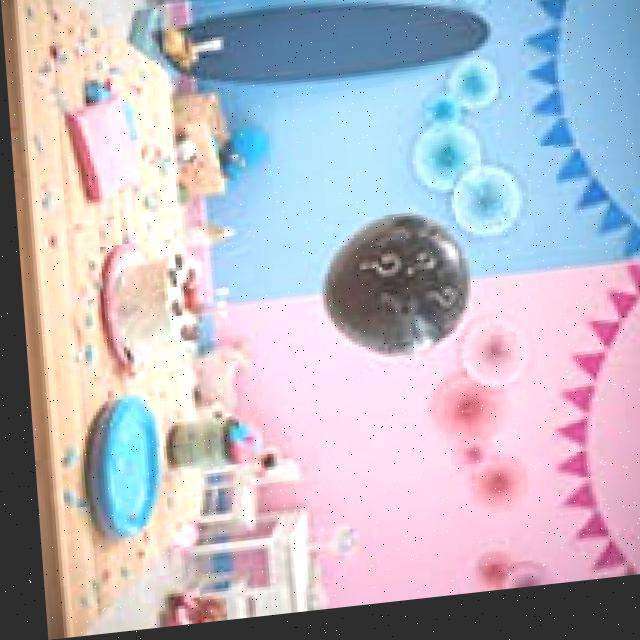balloon: (311, 216, 468, 371)
